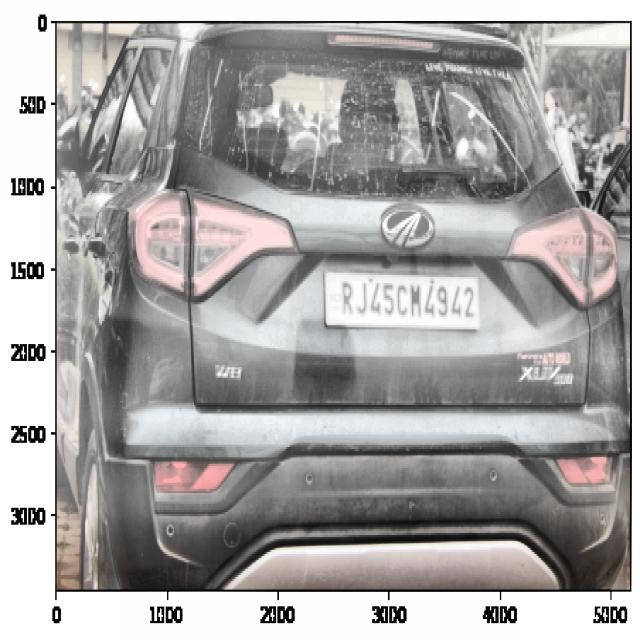license_plate: (335, 273, 478, 333)
